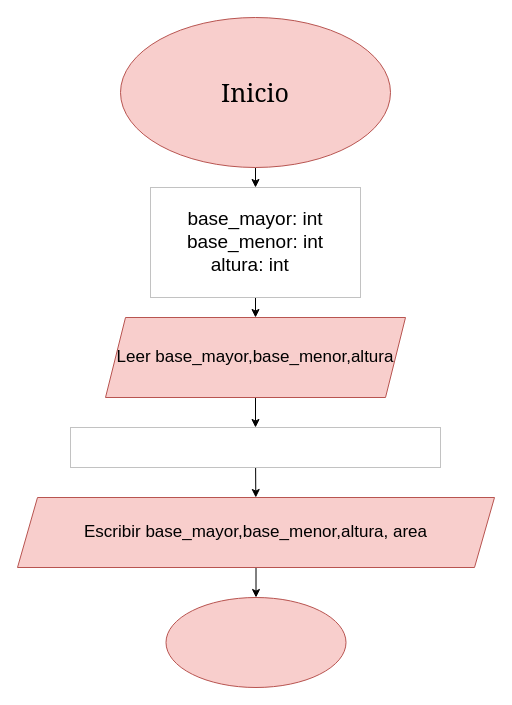
Image size: 512x705. Some labels were removed from this diagram. The box of each missing label's shape, as (x1, y1, x2, y2) in pixels:
area=((base_mayor+base_menor)*altura)/2: (70, 426, 440, 468)
Fin: (165, 596, 346, 688)
